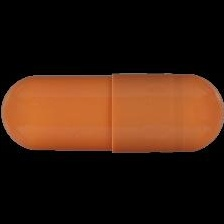69189-0226: (0, 0, 224, 224)
